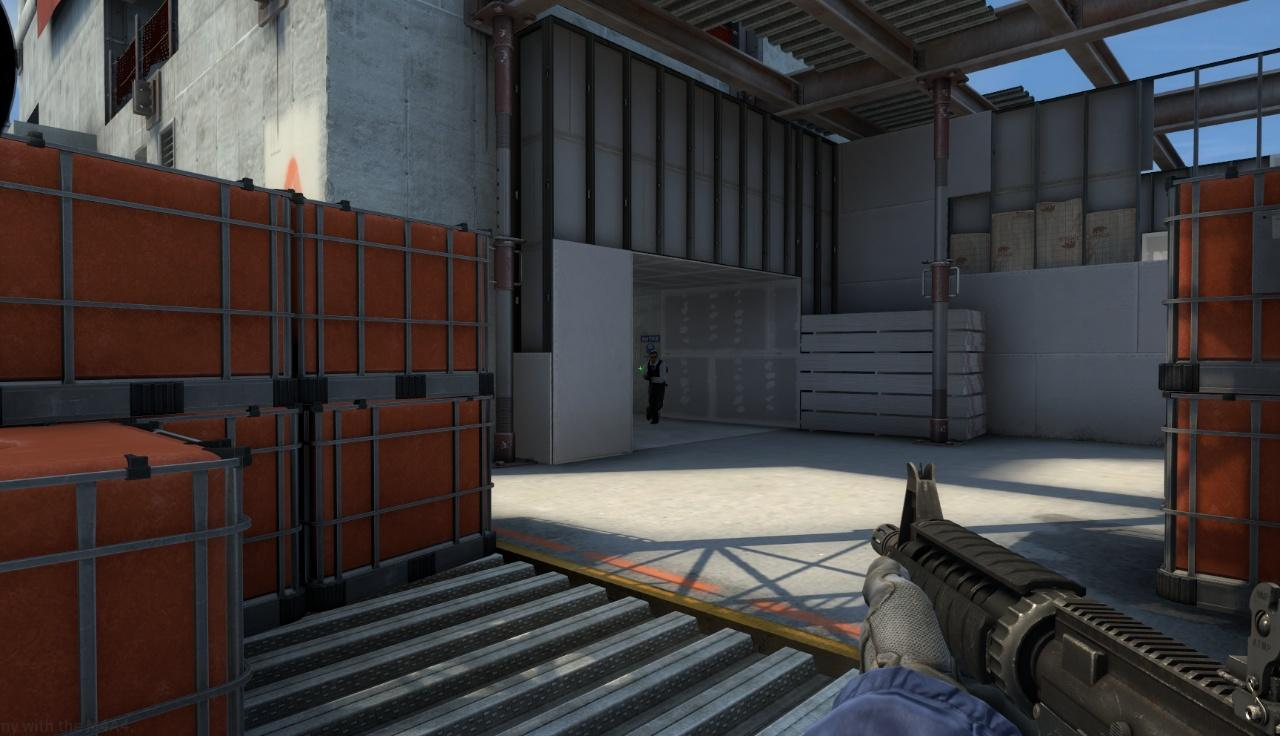rifle: (852, 459, 1278, 730)
tt: (641, 351, 669, 425)
tthead: (648, 352, 658, 363)
